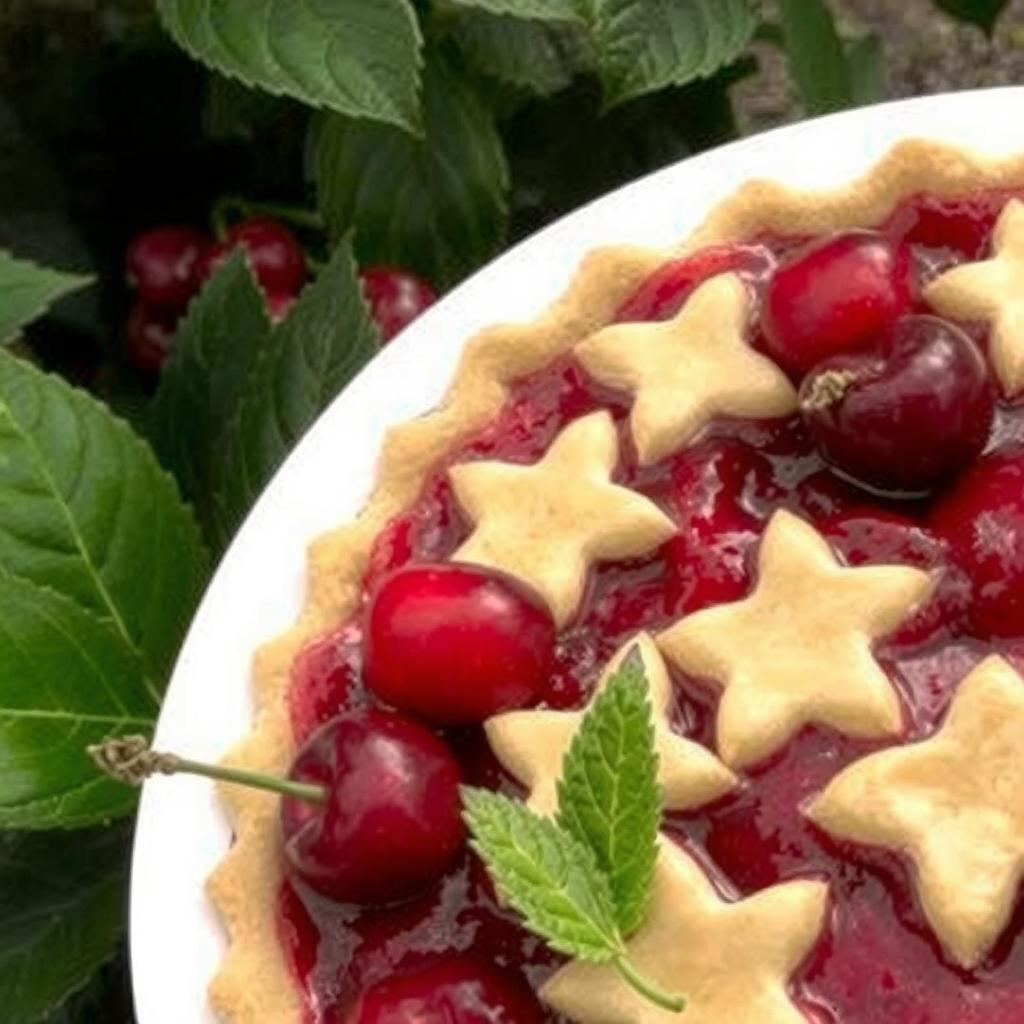pie: (191, 124, 1024, 1024)
